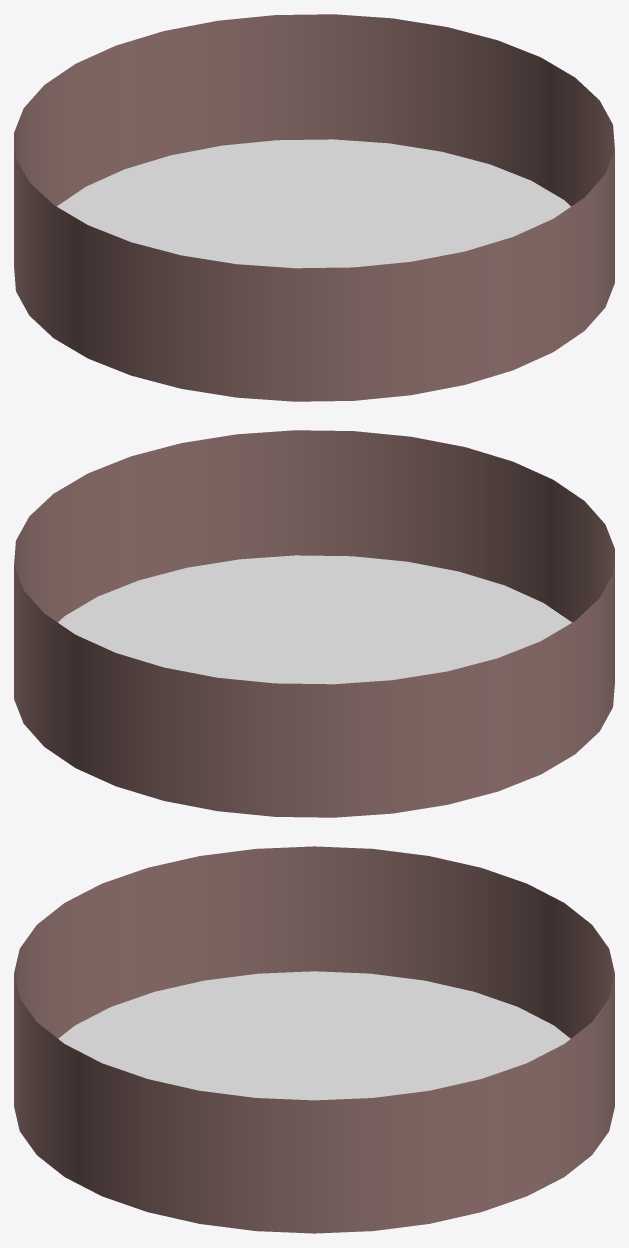
Rendered from CeillingLight.fbx.
3 views of the same model, one above another, from view 1: azimuth 30°, elevation 25°; view 2: azimuth 150°, elevation 25°; view 3: azimuth 270°, elevation 25° (orthographic).
Visible parts, largest first — view 1: CeillingLightFrame, CeilingLight; view 2: CeillingLightFrame, CeilingLight; view 3: CeillingLightFrame, CeilingLight.
Part boxes in pixels (x1,y1,x2,y2): CeillingLightFrame: (14, 14, 614, 401); CeilingLight: (57, 139, 570, 268); CeillingLightFrame: (14, 430, 614, 817); CeilingLight: (58, 555, 571, 684); CeillingLightFrame: (14, 846, 614, 1233); CeilingLight: (58, 971, 570, 1100).
Bounding box in the file's own units: 0.4 × 0.0978 × 0.4.
